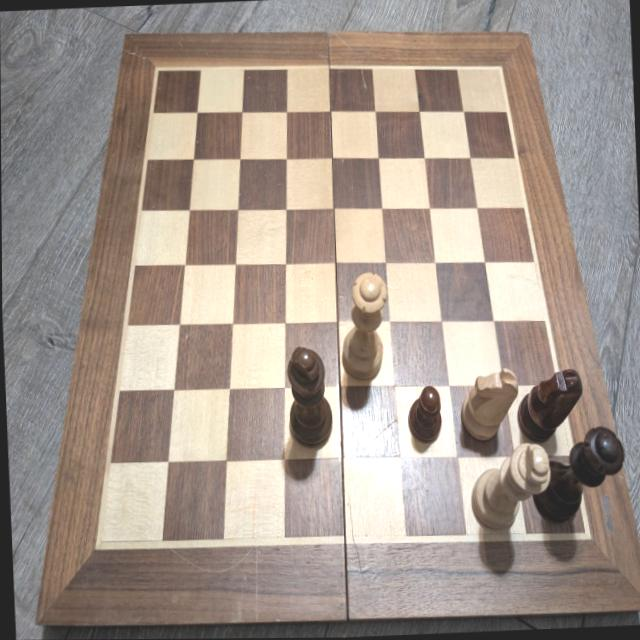black_king: (285, 343, 332, 446)
black_knight: (511, 368, 581, 443)
black_pawn: (406, 386, 442, 443)
black_queen: (529, 425, 627, 522)
white_king: (468, 442, 552, 530)
white_knight: (459, 368, 519, 441)
white_queen: (337, 272, 389, 382)
